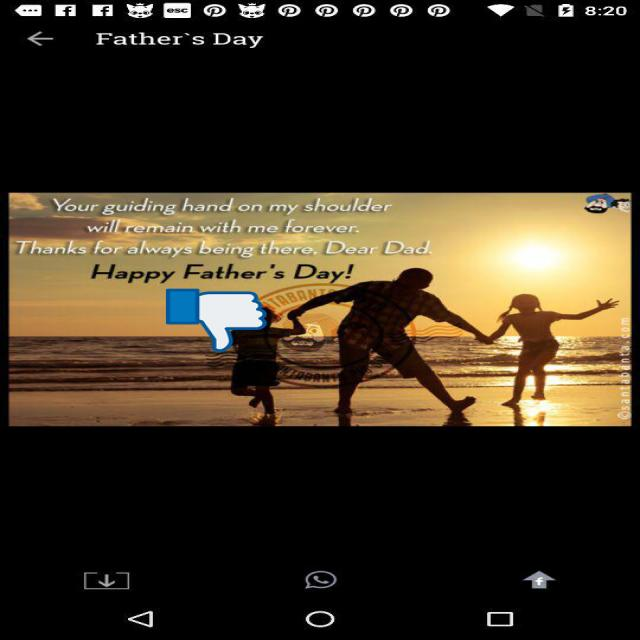obstruction: (166, 287, 267, 353)
